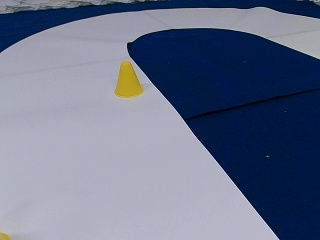cone: (113, 61, 142, 97)
